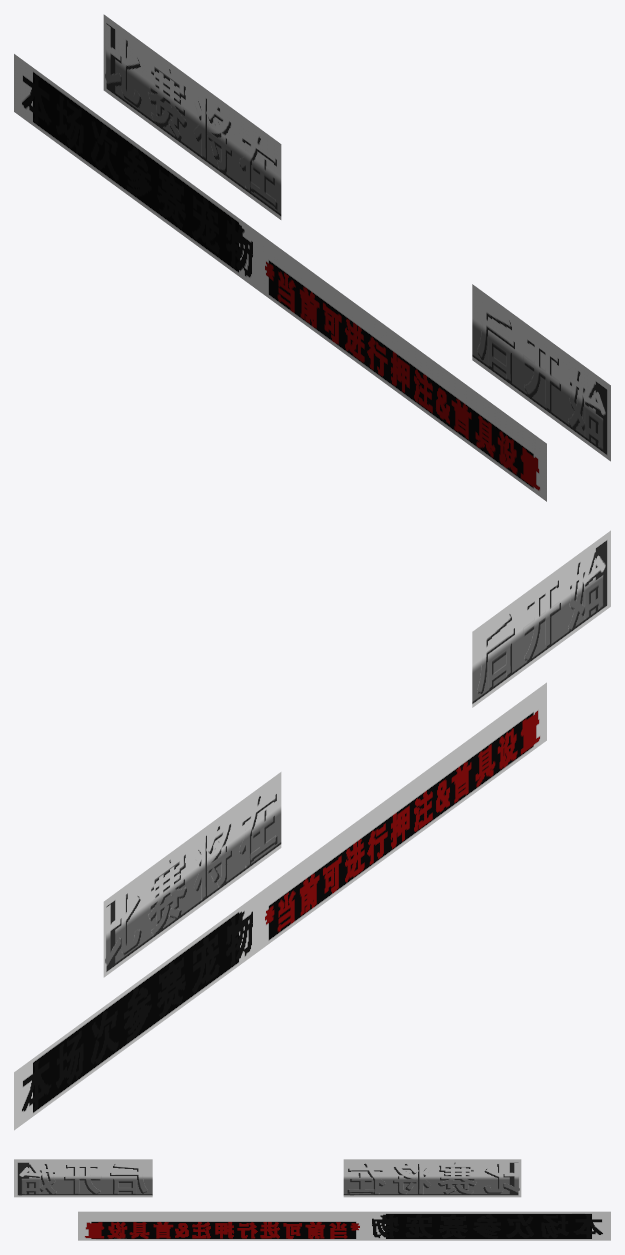
File: M_Dkaishi.FBX
3 renders of one model, top to bottom at view 1: azimuth 30°, elevation 25°; view 2: azimuth 150°, elevation 25°; view 3: azimuth 270°, elevation 25°, orthographic. The views are drawn at different scales.
Parts seen in each view (by area): view 1: M_Dkaishi; view 2: M_Dkaishi; view 3: M_Dkaishi.
Boxes of the visible parts, x1,y1,x2,y2 form: M_Dkaishi: [14, 14, 610, 501]; M_Dkaishi: [14, 530, 610, 1130]; M_Dkaishi: [14, 1159, 610, 1240].
Size of the model in its own units: 0 by 1.47 by 9.75.
